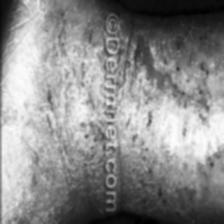Non-Cancerous Skin Condition: (126, 18, 214, 179)
